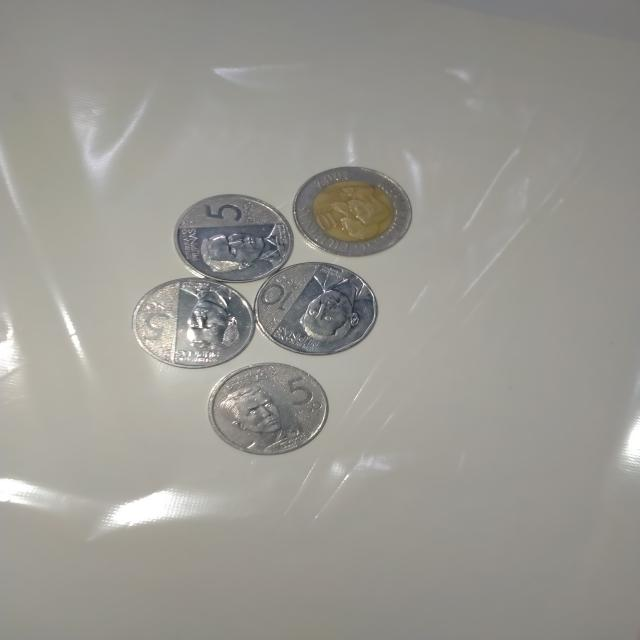10_New_Front: (258, 266, 366, 344)
10_Old_Front: (298, 169, 402, 249)
5_New_Front: (184, 199, 284, 274), (217, 374, 317, 446)
